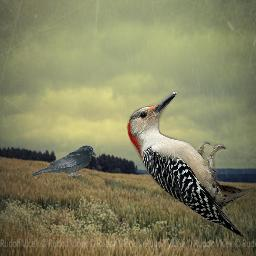Crow: (31, 145, 96, 176)
Woodpecker: (126, 91, 253, 238)
